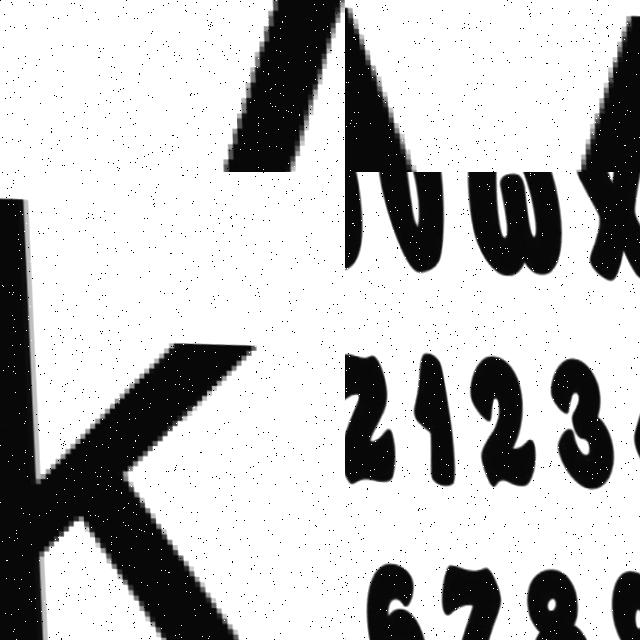1: (400, 332, 465, 491)
2: (461, 340, 549, 491)
3: (540, 336, 627, 495)
4: (614, 315, 640, 508)
6: (350, 536, 442, 640)
7: (428, 535, 521, 640)
8: (510, 538, 604, 640)
9: (598, 542, 640, 640)
J: (99, 0, 345, 172)
K: (0, 172, 297, 640)
V: (345, 0, 640, 172)
